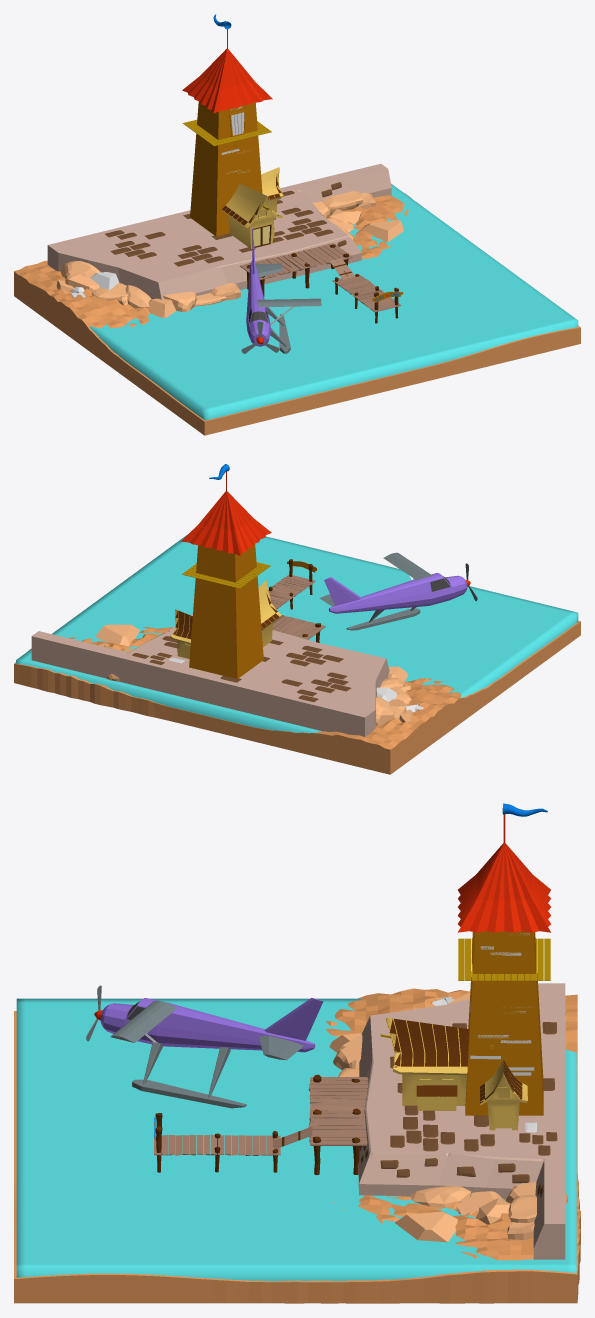
The model's file is island.glb.
3 renders of one model, top to bottom at view 1: azimuth 30°, elevation 25°; view 2: azimuth 150°, elevation 25°; view 3: azimuth 270°, elevation 25°, orthographic. The views are drawn at different scales.
Visible parts, largest first — view 1: Plane.002, House-pad, Plane.029, Cube.001, Cube.019, Cube.002, Plane, Circle.001, Plane.031, Cube.018, Cube_Cube.003, Sphere.001_Sphere.003 (+1 smaller); view 2: Plane.002, House-pad, Plane.029, Cube.001, Cube.019, Circle.001, Plane.031, Plane, Cube_Cube.003, Cube.002, Cube.018, Circle.004 (+4 smaller); view 3: Plane.002, Plane.029, House-pad, Cube.001, Cube.019, Circle.001, Plane, Cube.014, Cube.002, Plane.031, Circle.004, Cube.021 (+8 smaller).
Part boxes in pixels (x1,y1,x2,y2): Plane.002: [89, 183, 578, 420]; House-pad: [47, 163, 391, 299]; Plane.029: [14, 193, 580, 435]; Cube.001: [190, 101, 262, 236]; Cube.019: [182, 29, 272, 113]; Cube.002: [222, 183, 282, 248]; Plane: [240, 243, 352, 280]; Circle.001: [246, 260, 270, 346]; Plane.031: [332, 274, 401, 312]; Cube.018: [182, 119, 271, 146]; Cube_Cube.003: [361, 220, 403, 242]; Sphere.001_Sphere.003: [323, 191, 363, 215]; Plane.002: [16, 534, 578, 732]; House-pad: [31, 613, 389, 736]; Plane.029: [14, 621, 580, 774]; Cube.001: [189, 543, 263, 678]; Cube.019: [181, 471, 271, 555]; Circle.001: [329, 573, 467, 613]; Plane.031: [268, 575, 315, 609]; Plane: [272, 615, 325, 639]; Cube_Cube.003: [95, 624, 139, 645]; Cube.002: [258, 580, 281, 647]; Cube.018: [182, 562, 270, 588]; Circle.004: [346, 607, 420, 630]; Plane.002: [16, 998, 576, 1281]; Plane.029: [14, 988, 580, 1303]; House-pad: [358, 983, 565, 1259]; Cube.001: [465, 931, 543, 1115]; Cube.019: [458, 814, 550, 932]; Circle.001: [100, 998, 315, 1052]; Plane: [308, 1077, 368, 1145]; Cube.014: [387, 1018, 468, 1067]; Cube.002: [385, 1017, 467, 1105]; Plane.031: [154, 1134, 280, 1155]; Circle.004: [132, 1042, 246, 1108]; Cube.021: [480, 1060, 527, 1130].
Size of what is drawn, in the model's own units: 11.84 by 7.55 by 10.43.
